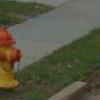Hydrant: (2, 22, 24, 93)
